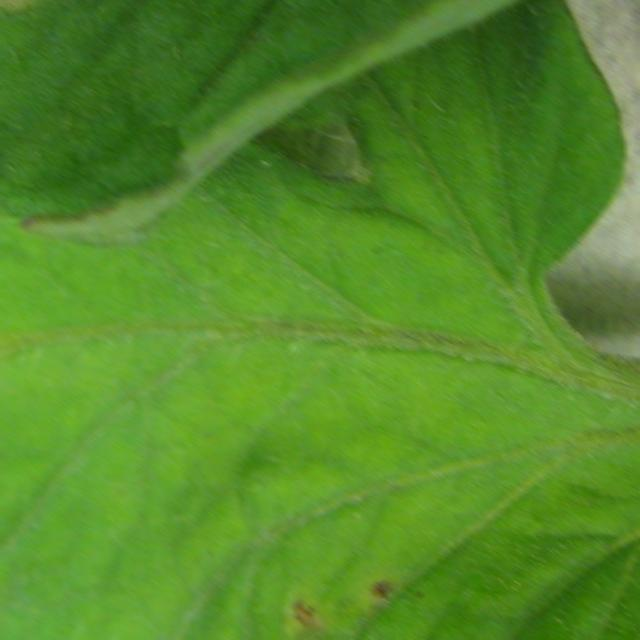Tomato leaf late blight: (0, 103, 640, 640), (0, 0, 640, 222)
